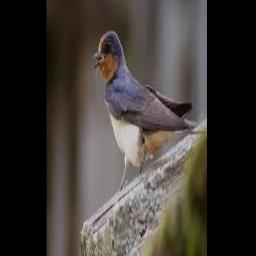Swallow: (92, 32, 196, 190)
